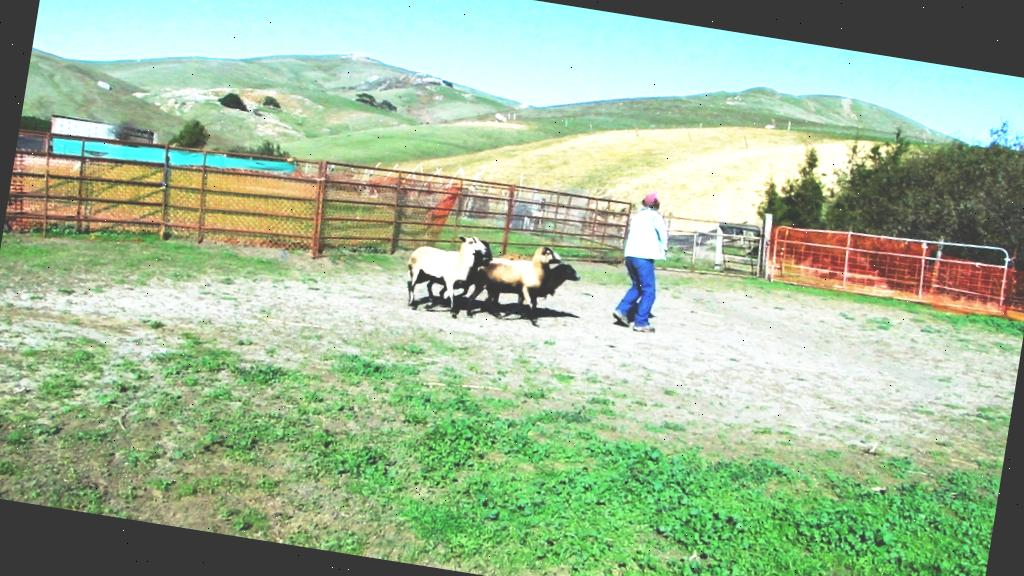Sheep: (462, 232, 562, 330), (406, 225, 496, 320), (402, 225, 487, 319), (500, 252, 584, 330)
